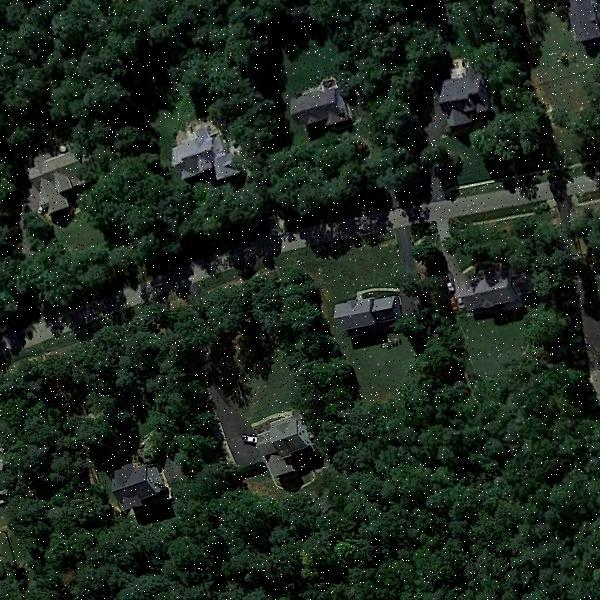Buildings: (29, 151, 78, 217), (256, 416, 310, 465), (444, 68, 484, 128), (334, 292, 395, 326), (290, 91, 356, 122), (104, 471, 156, 508), (183, 136, 228, 167), (450, 284, 508, 308)
